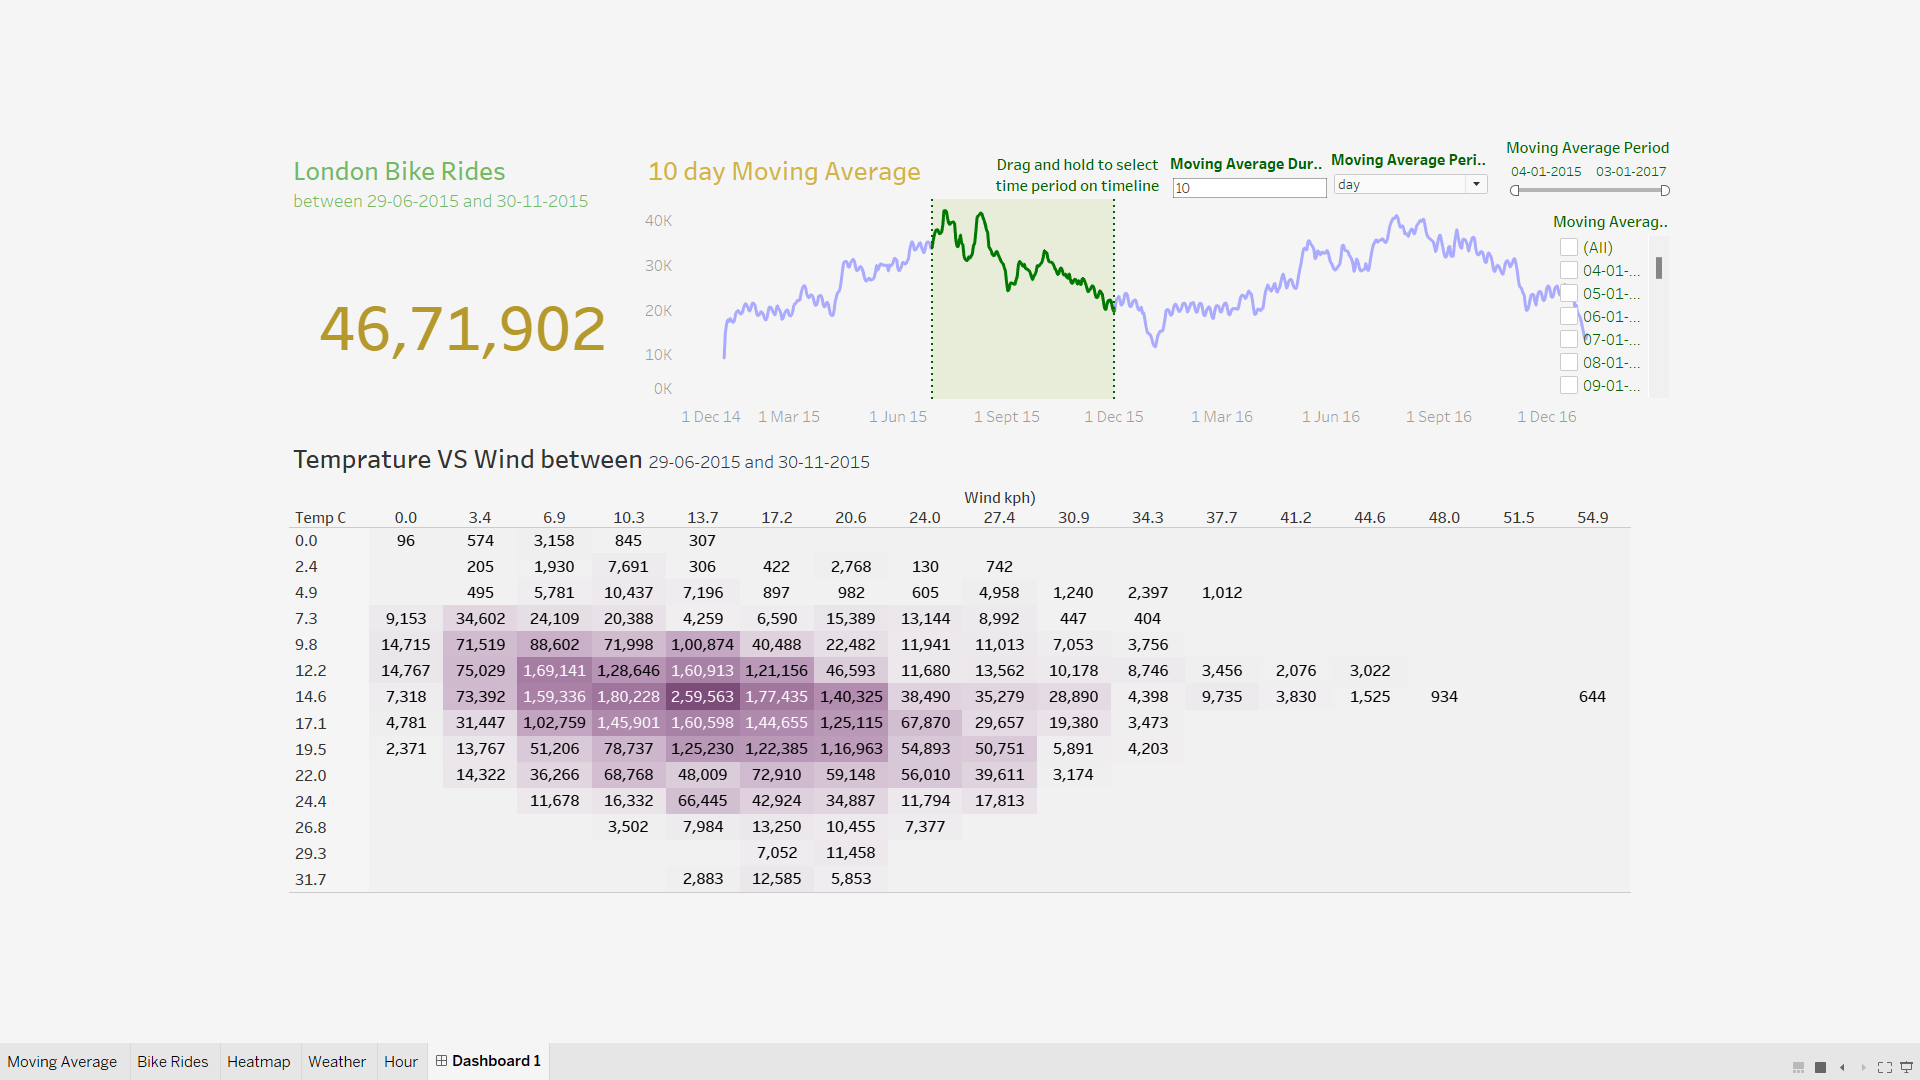

What the dashboard file says about the page in this screenshot:
{"tool":"tableau","page":{"name":"Dashboard 1","canvas":[1366,768],"ordinal":0},"visuals":[{"type":"worksheet","title":"Bike Rides","mark":"Automatic","box":[8,8,355,288]},{"type":"worksheet","title":"Moving Average","mark":"Automatic","rows":["Calculation1"],"cols":["Calculation_184929103509639168"],"box":[363,8,995,288]},{"type":"parameter","param":"[Parameters].[Parameter 1]","box":[1054,12,160,48]},{"type":"parameter","param":"[Parameters].[Parameter 2]","box":[893,16,160,48]},{"type":"text","box":[715,17,171,42]},{"type":"worksheet","title":"Heatmap","mark":"Square","rows":["temp real C (bin)"],"cols":["Wind Speed Kph (bin)"],"box":[8,296,1350,464]}]}

Visuals, with their boxes on the page's 1366x768 design canvas (x1, y1, x2, y2). These are canvas units, not pixel positions in the 1920x1080 screenshot, which may show the page scaled, cropped or inside an application window:
"Bike Rides" worksheet: crop(8, 8, 363, 296)
"Moving Average" worksheet: crop(363, 8, 1358, 296)
parameter: crop(1054, 12, 1214, 60)
parameter: crop(893, 16, 1053, 64)
text: crop(715, 17, 886, 59)
"Heatmap" worksheet (Square marks): crop(8, 296, 1358, 760)
